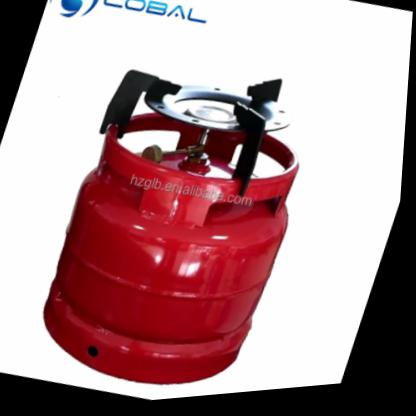gas-tank: (6, 54, 344, 413)
